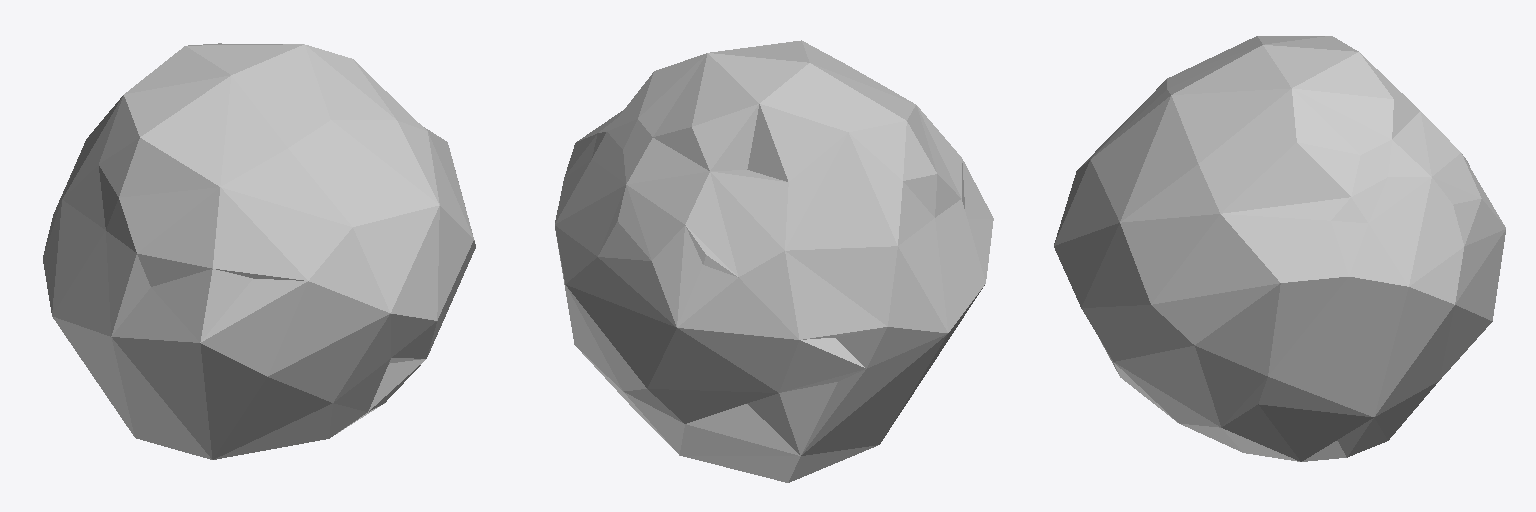
The model's file is asteroide.obj.
3 views of the same model, side by side, from view 1: azimuth 30°, elevation 25°; view 2: azimuth 150°, elevation 25°; view 3: azimuth 270°, elevation 25° (orthographic).
Parts seen in each view (by area): view 1: asteroide; view 2: asteroide; view 3: asteroide.
Part boxes in pixels (x1,y1,x2,y2): asteroide: (43, 43, 475, 459); asteroide: (555, 40, 993, 482); asteroide: (1054, 36, 1505, 461).
Size of the model in its own units: 1.91 by 1.85 by 1.94.